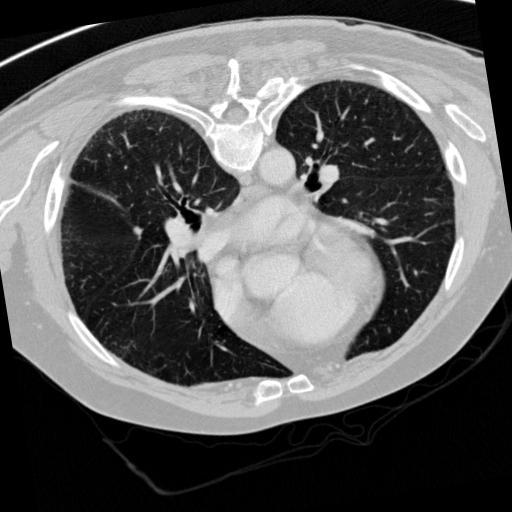nodule: (130, 224, 146, 240)
